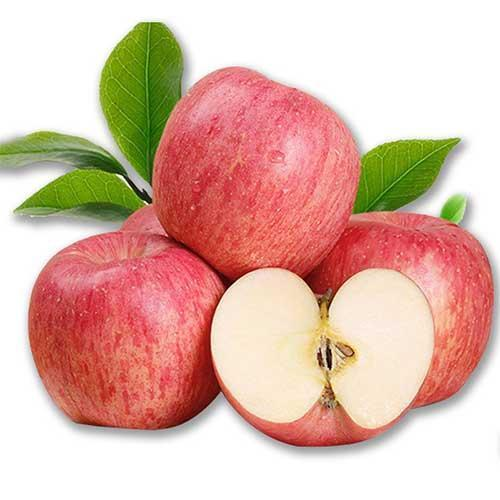apple: (150, 65, 362, 281), (23, 235, 231, 435), (308, 207, 496, 410)
